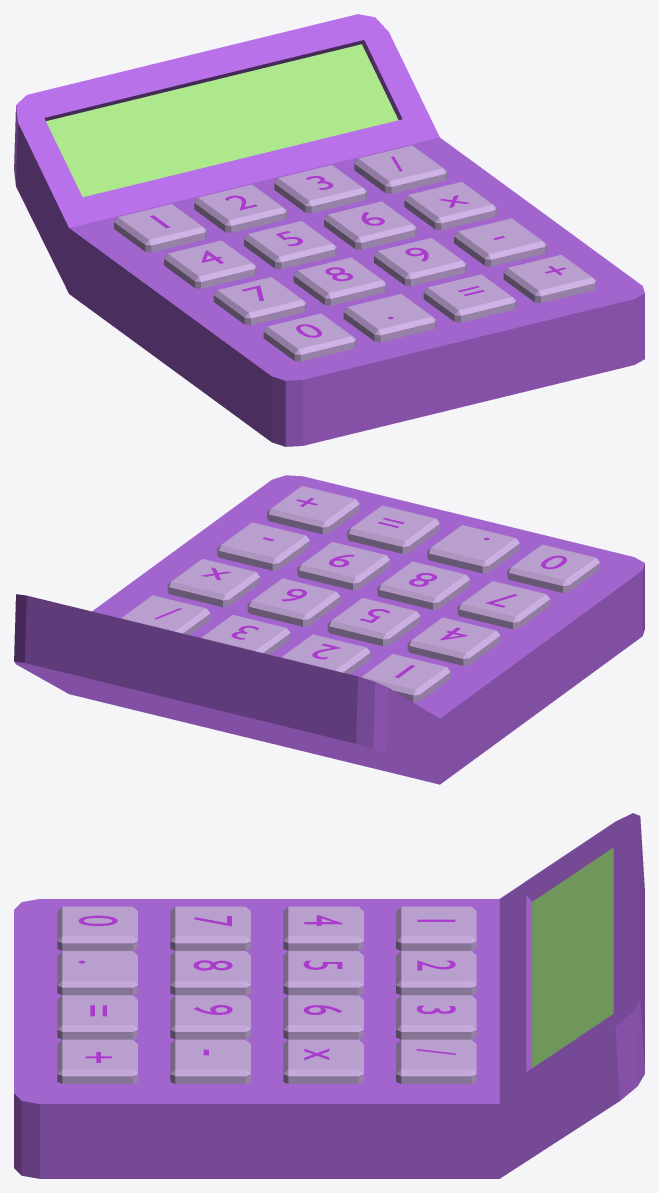
The model's file is calculator.fbx.
3 views of the same model, one above another, from view 1: azimuth 30°, elevation 25°; view 2: azimuth 150°, elevation 25°; view 3: azimuth 270°, elevation 25° (orthographic). The views are drawn at different scales.
Visible parts, largest first — view 1: Calculator; view 2: Calculator; view 3: Calculator.
Part boxes in pixels (x1,y1,x2,y2): Calculator: (14, 14, 644, 446); Calculator: (14, 475, 644, 784); Calculator: (14, 813, 644, 1178).
Bounding box in the file's own units: 8.16 × 10.6 × 3.13.
